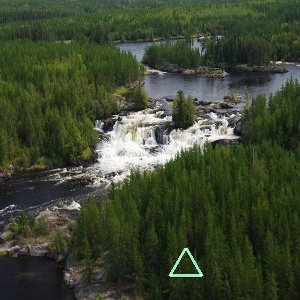triangle: (166, 246, 205, 280)
